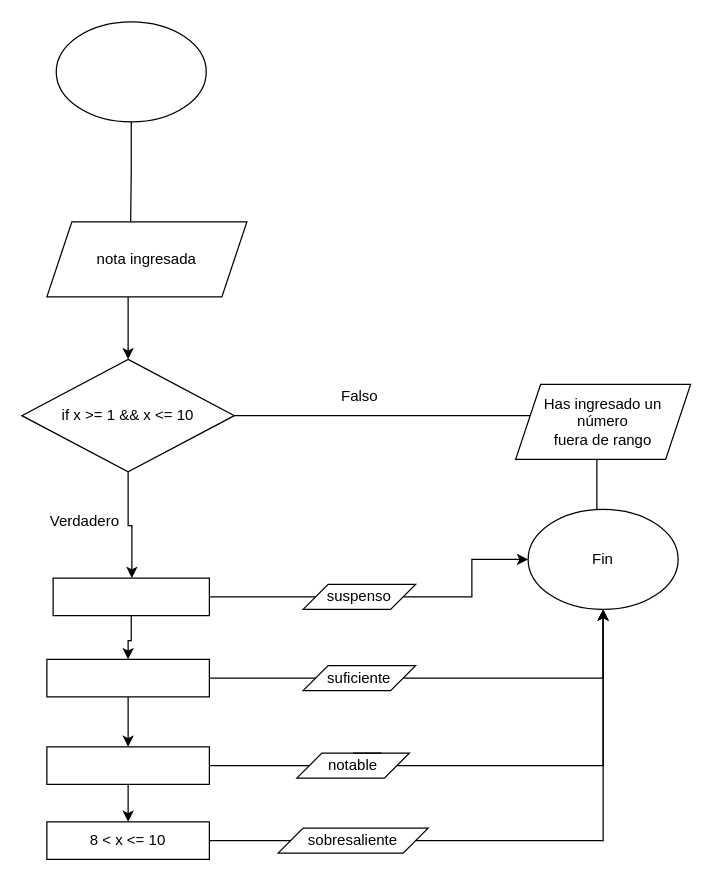
The diagram is 713 pixels wide and 881 high, and some of its shapes have lost their labels. The centre of each missing label's shape, as x and y in pixels:
"1 < x <= 4" belongs at [130,596].
"5 < x <= 6" belongs at [127,677].
"6 < x <= 8" belongs at [127,765].
"Inicio" belongs at [130,71].
